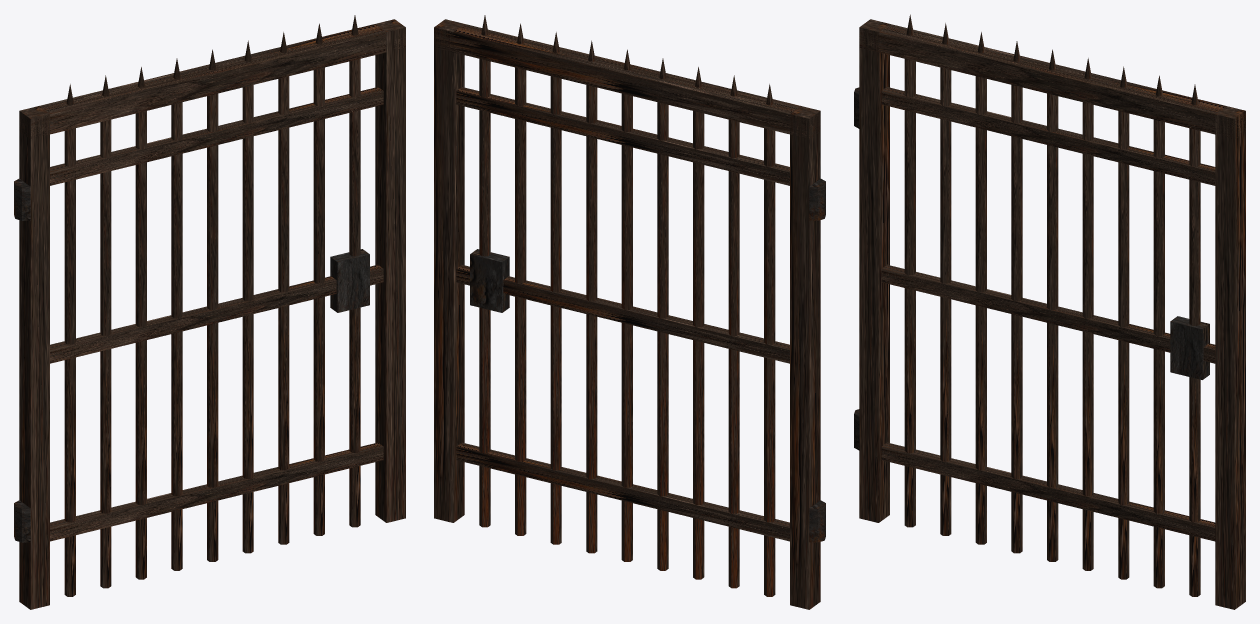
Rendered from barred-gate-v01-photo.glb.
3 views of the same model, side by side, from view 1: azimuth 30°, elevation 25°; view 2: azimuth 150°, elevation 25°; view 3: azimuth 330°, elevation 25° (orthographic).
Visible parts, largest first — view 1: barred-gate; view 2: barred-gate; view 3: barred-gate.
Boxes of the visible parts, box(x1,y1,x2,y2) form: barred-gate: box(14, 15, 405, 609); barred-gate: box(434, 15, 825, 609); barred-gate: box(854, 14, 1245, 609).
Size of the model in its own units: 2.38 by 3.02 by 0.12.
2 materials, 2 textured.
